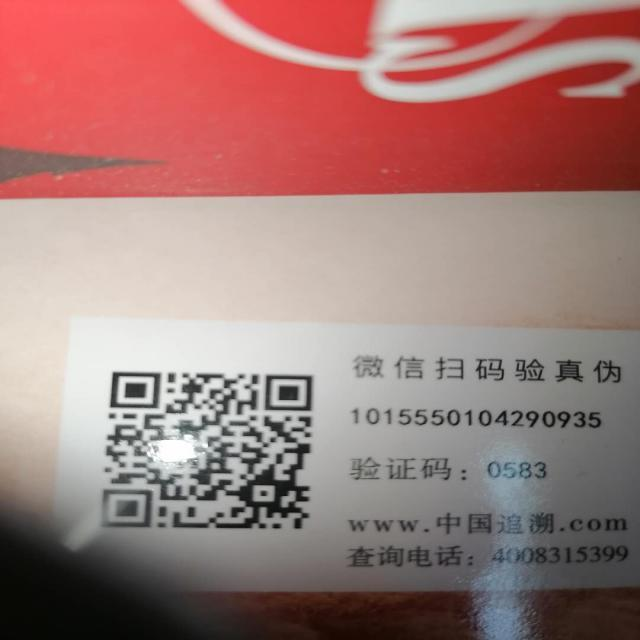qr_code: (100, 371, 313, 530)
